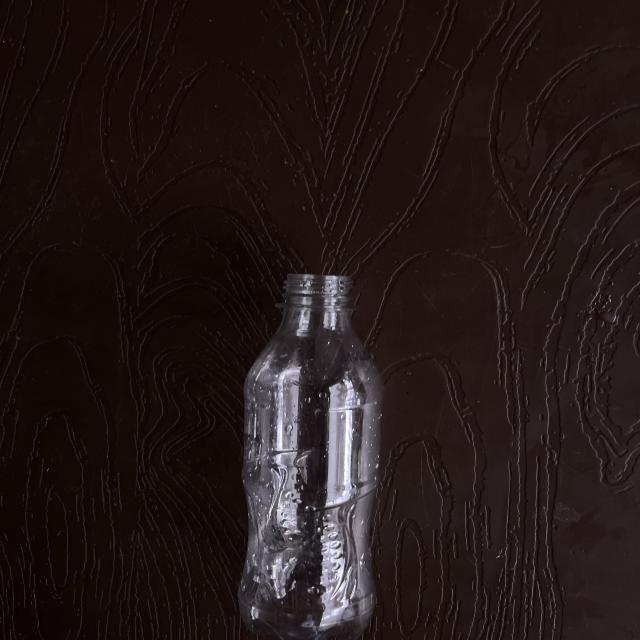PET_With_Liquid: (240, 352, 381, 637)
